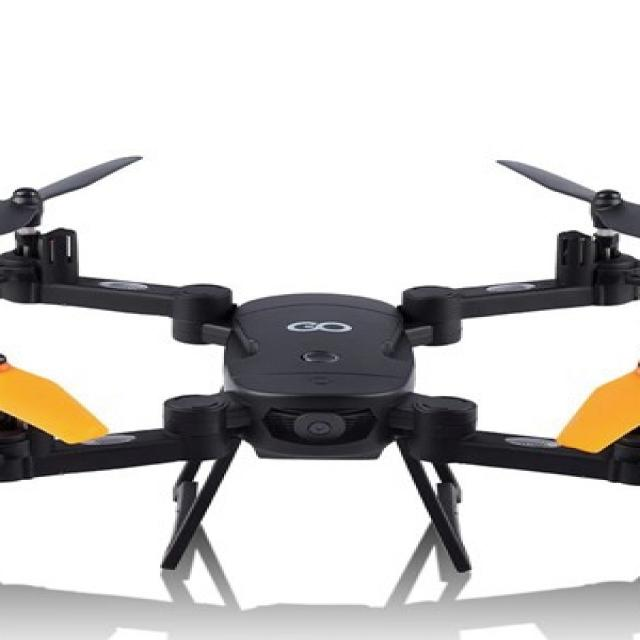drone: (0, 163, 640, 573)
